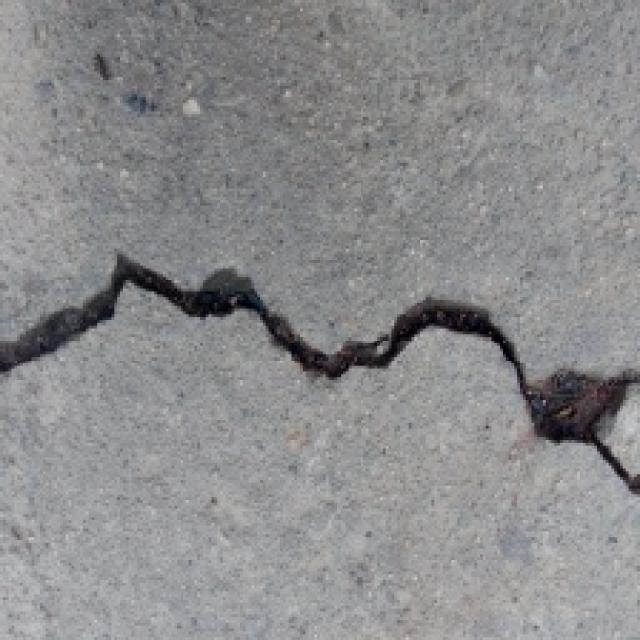crack: (0, 234, 640, 522)
